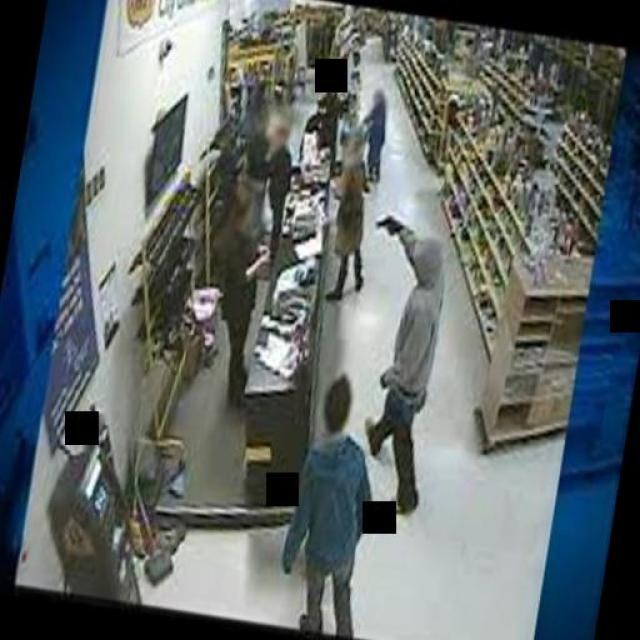gun: (366, 192, 412, 258)
